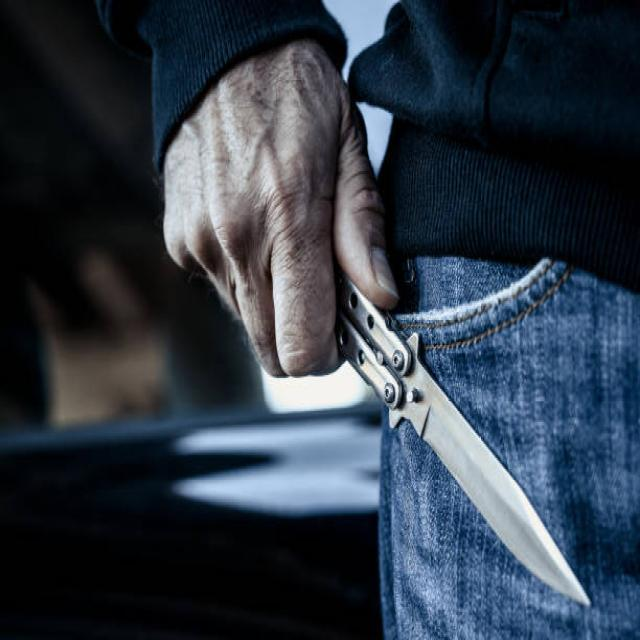faca: (206, 109, 598, 622)
